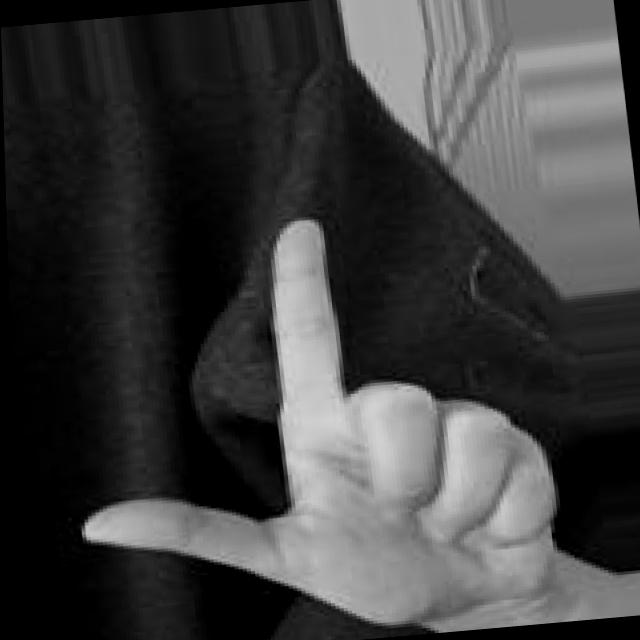L: (34, 185, 601, 640)
